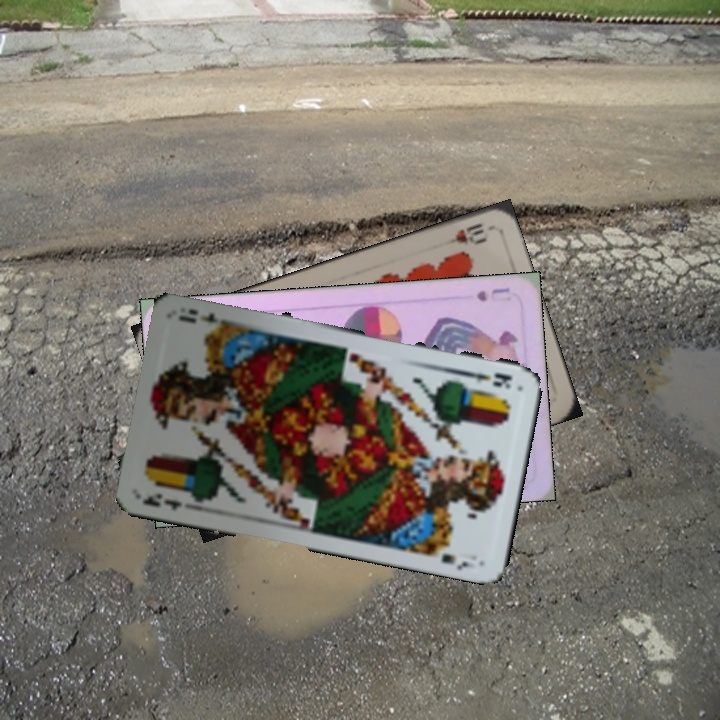EK: (457, 366, 515, 391), (138, 489, 184, 512)
H10: (436, 219, 490, 250)
SU: (472, 284, 512, 304)
